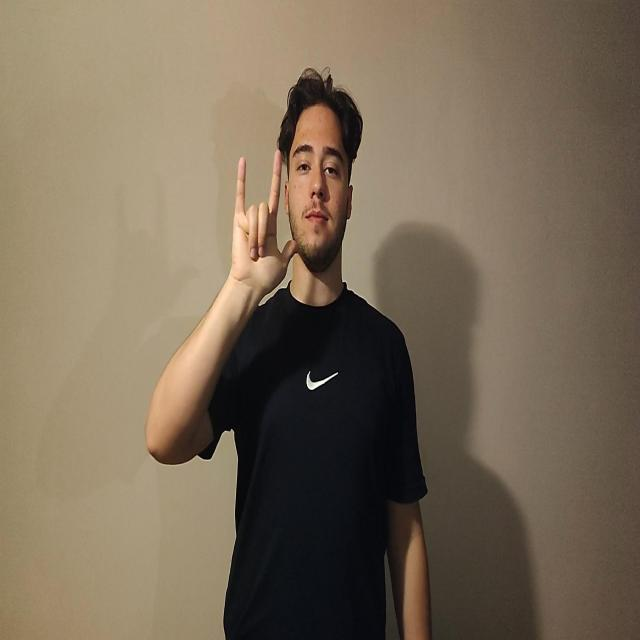iloveyou: (230, 147, 298, 300)
